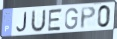0: (96, 5, 113, 29)
E: (47, 8, 64, 33)
G: (64, 7, 79, 31)
J: (16, 11, 28, 33)
P: (80, 6, 97, 30)
U: (30, 9, 47, 34)
